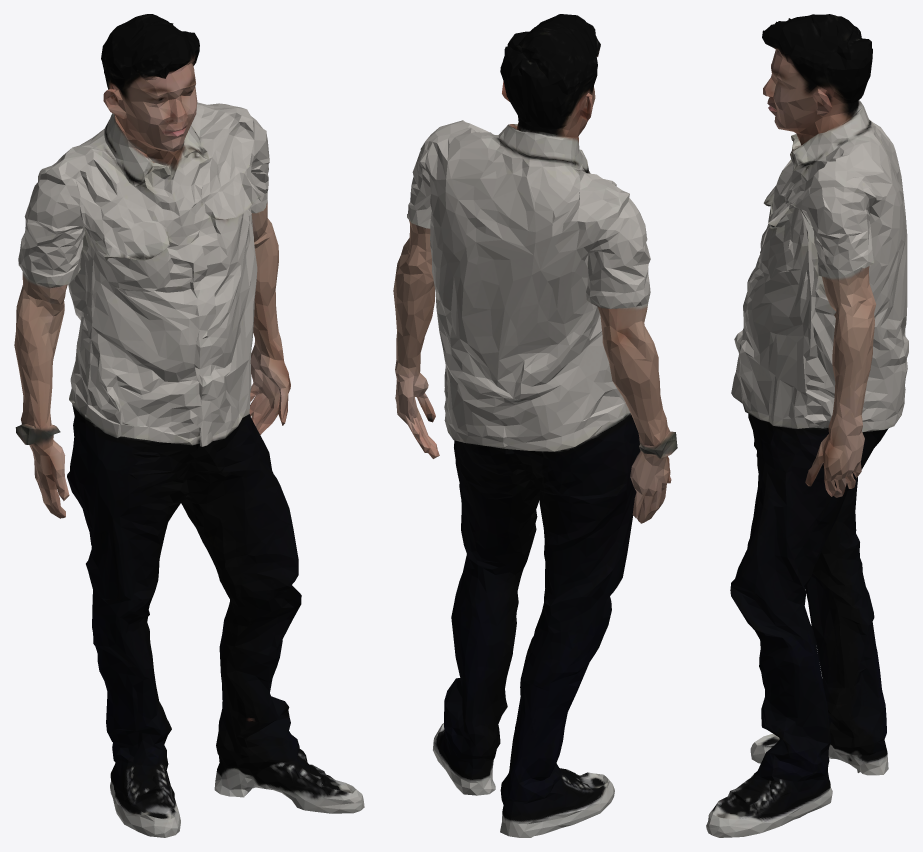
File: intelmob_idle.glb
3 renders of one model, left to right at view 1: azimuth 30°, elevation 25°; view 2: azimuth 150°, elevation 25°; view 3: azimuth 270°, elevation 25°, orthographic. The views are drawn at different scales.
Visible parts, largest first — view 1: tripo_node_ba0bf59e; view 2: tripo_node_ba0bf59e; view 3: tripo_node_ba0bf59e.
Boxes of the visible parts, <box> form: tripo_node_ba0bf59e: <box>14,14,364,837</box>; tripo_node_ba0bf59e: <box>393,14,677,837</box>; tripo_node_ba0bf59e: <box>706,14,908,837</box>.
Size of the model in its own units: 37.26 by 98.58 by 24.16.
1 material, 1 textured.
